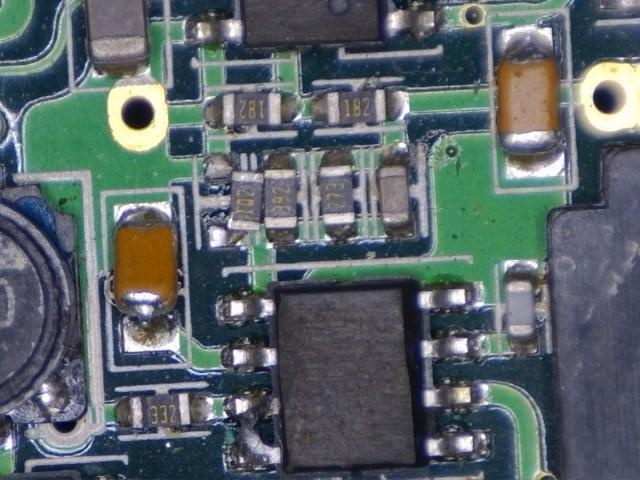pcb_defect: (113, 201, 179, 352), (205, 154, 264, 248), (223, 398, 281, 473)
